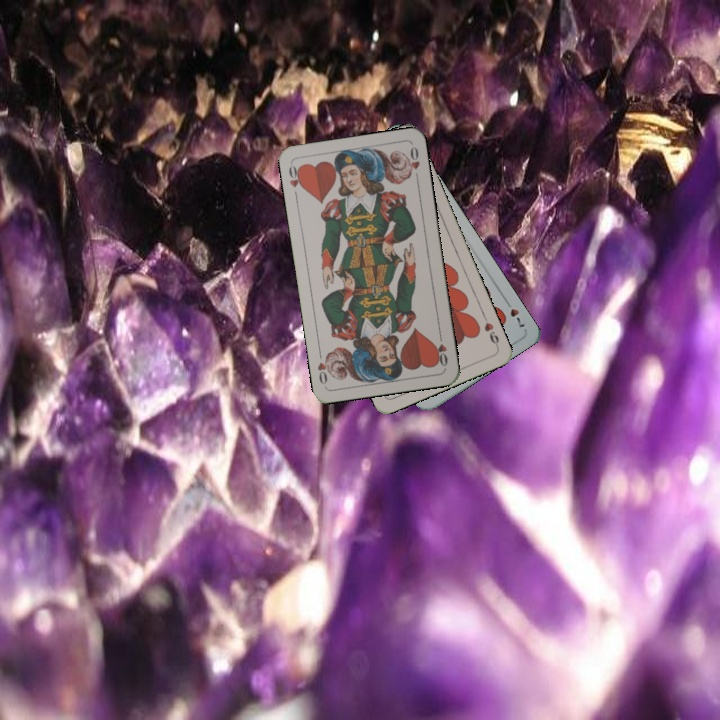H7: (500, 295, 528, 330)
H9: (479, 311, 501, 350)
HO: (285, 160, 306, 201), (431, 329, 450, 369)
